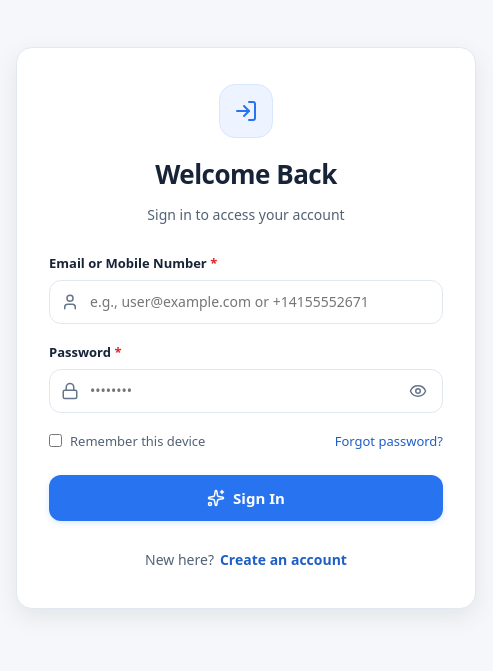
it: authentication screens › logs in with identifier jamie@example.test and shows a generic API error
Type "jamie@example.test" into the field labelled "Email or Mobile Number *" at coordinates (246, 302), box [49,280,443,324]
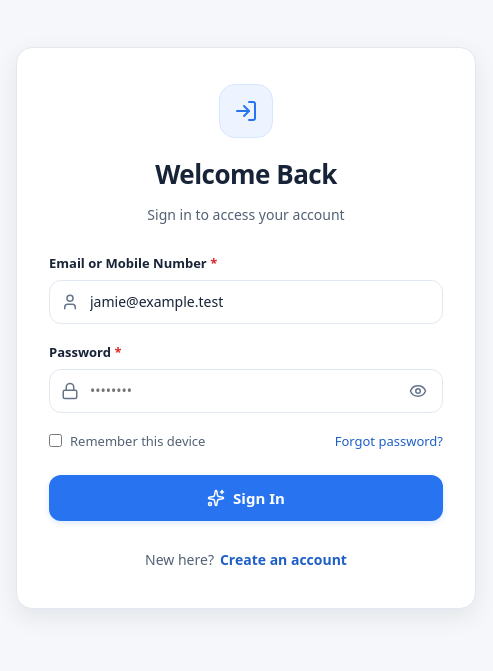
Type "Wrong@123" into the password field labelled "Password *" at coordinates (246, 390), box [49,368,443,412]
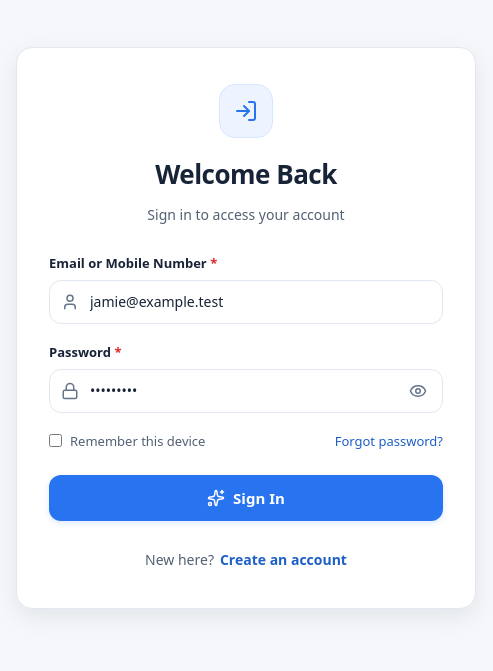
Click the button "Sign In" at coordinates (246, 498), box [49,475,443,521]
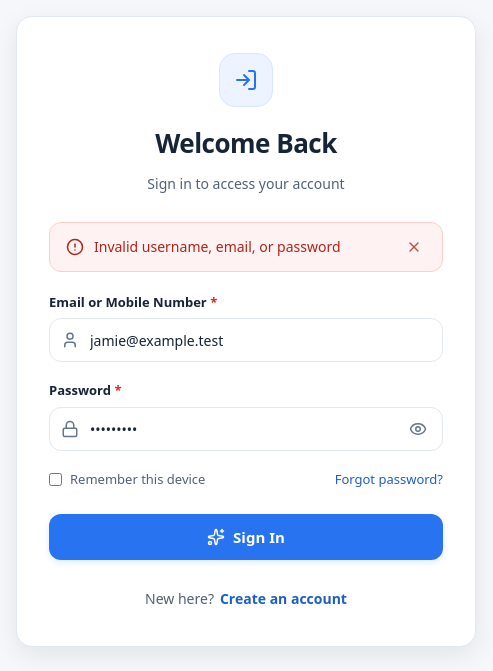
Expected: the text "Invalid username, email, or password" is shown, [94,237,341,256]
